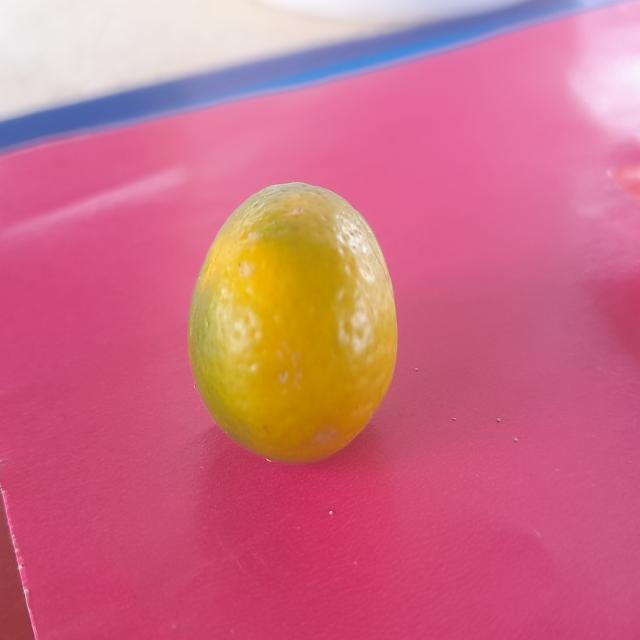greening: (192, 176, 404, 466)
